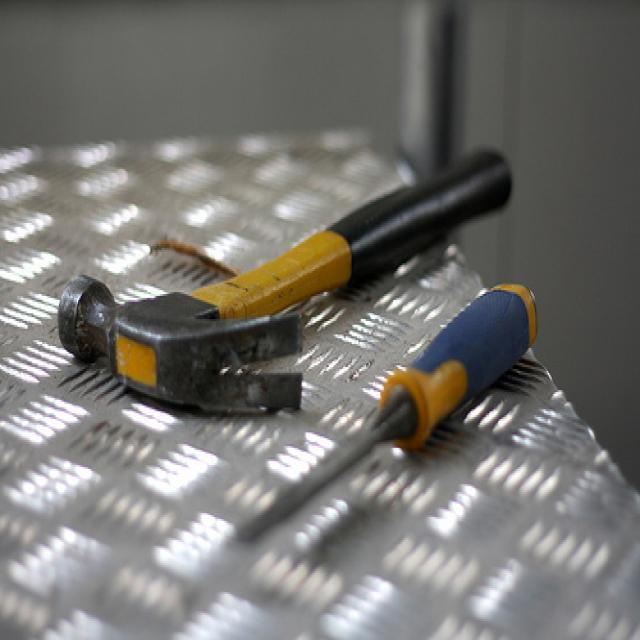hammer: (49, 123, 534, 438)
screwdriver: (169, 270, 548, 629)
